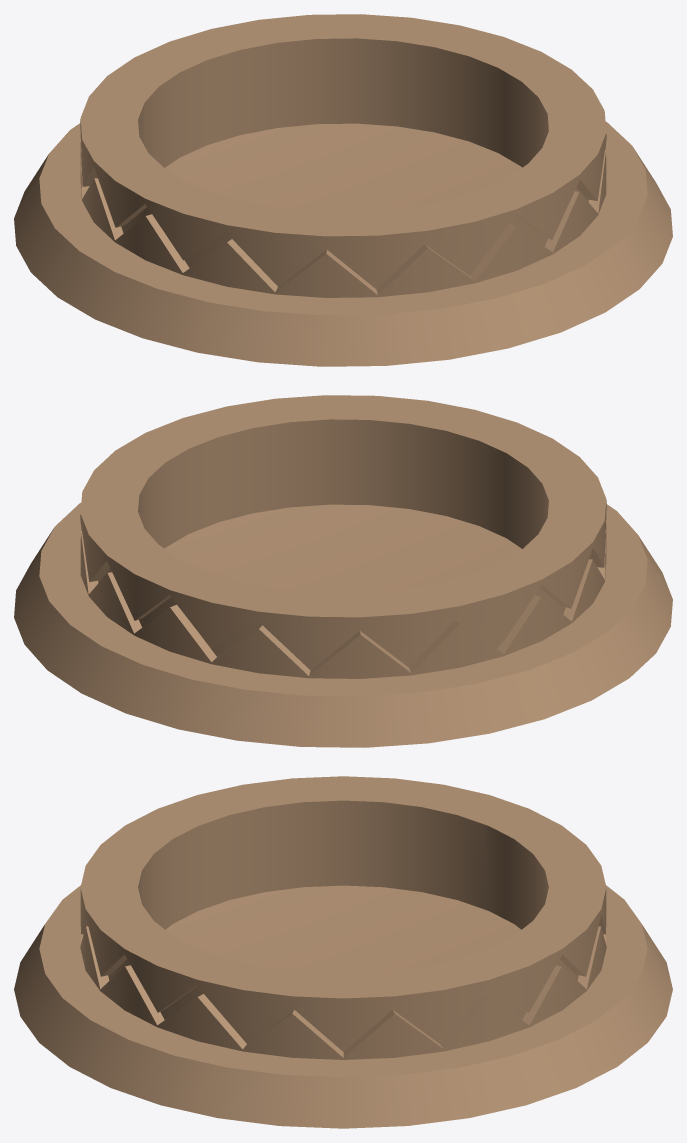
File: SM_button_base.fbx
3 renders of one model, top to bottom at view 1: azimuth 30°, elevation 25°; view 2: azimuth 150°, elevation 25°; view 3: azimuth 270°, elevation 25°, orthographic.
Visible parts, largest first — view 1: ButtonBase; view 2: ButtonBase; view 3: ButtonBase.
Boxes of the visible parts, <box> form: ButtonBase: <box>14,14,672,366</box>; ButtonBase: <box>14,395,672,747</box>; ButtonBase: <box>14,776,672,1128</box>.
Size of the model in its own units: 4 by 4 by 0.6837.
